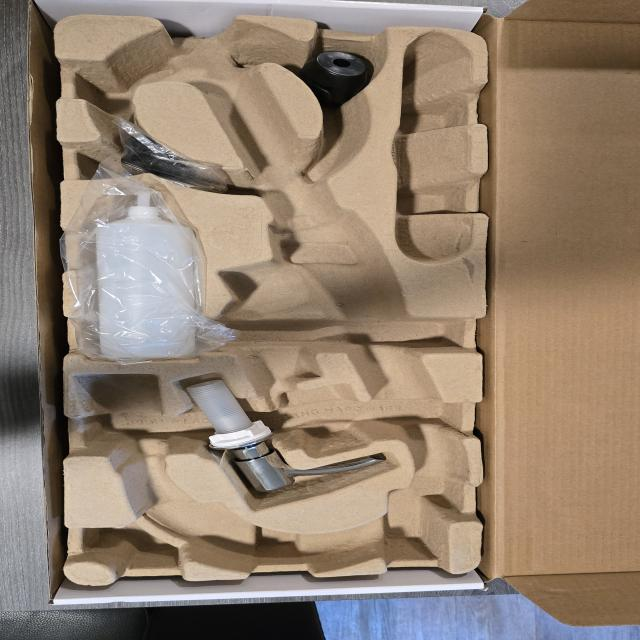1m: (73, 18, 465, 575)
2: (183, 379, 386, 493)
3: (95, 189, 199, 360)
4m: (392, 32, 473, 264)
5: (300, 51, 372, 107)
6m: (75, 44, 179, 115)
7: (117, 119, 231, 191)
